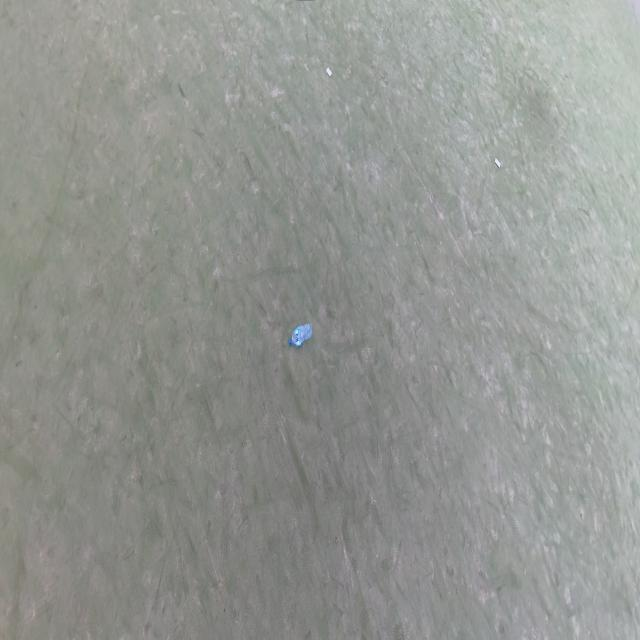rubbish: (289, 322, 313, 347), (494, 157, 501, 169), (326, 66, 333, 77)
